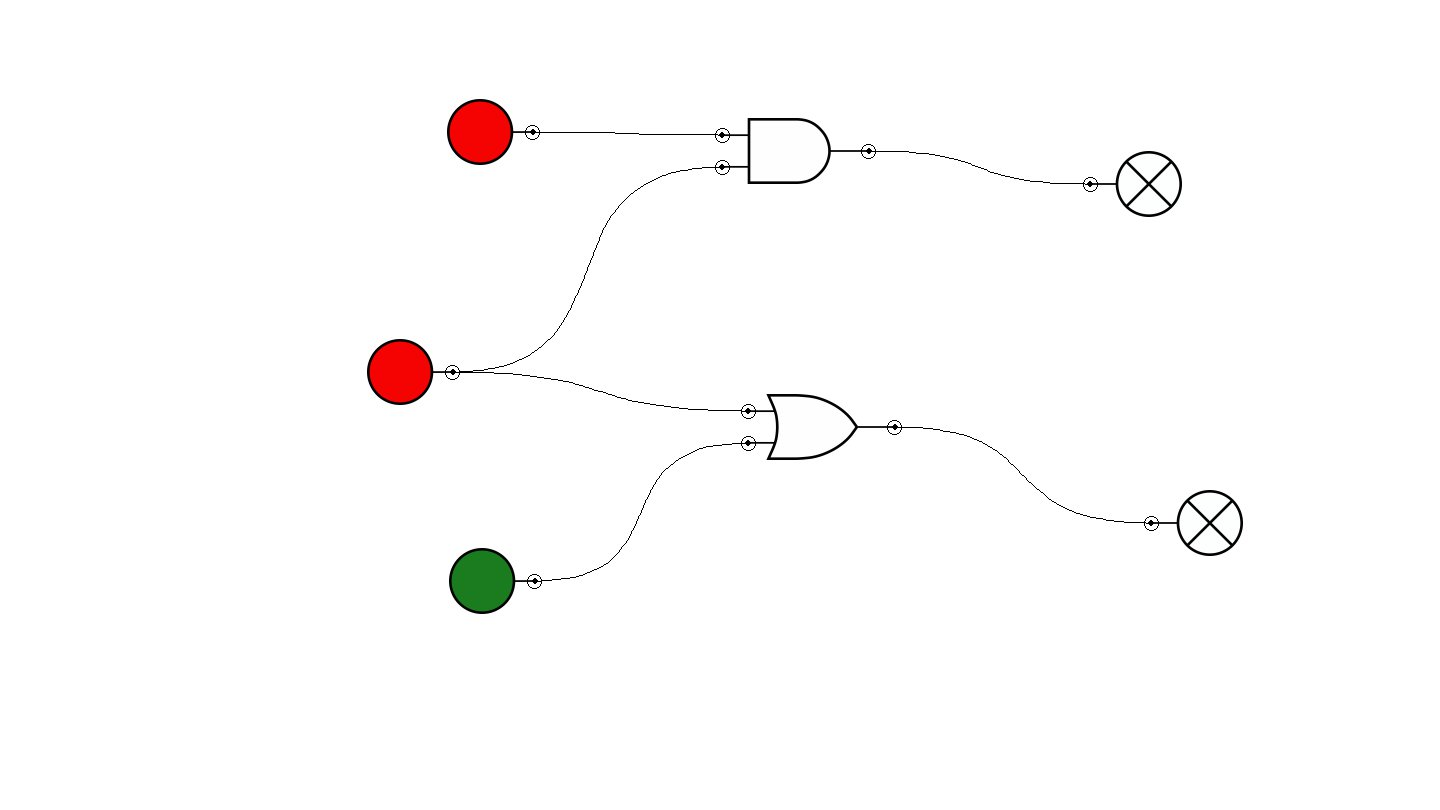and: (715, 118, 876, 184)
bulb: (1144, 490, 1243, 556), (1083, 151, 1182, 217)
or: (741, 394, 902, 460)
switch_False: (367, 339, 460, 405), (447, 99, 540, 165)
switch_True: (449, 548, 542, 614)
